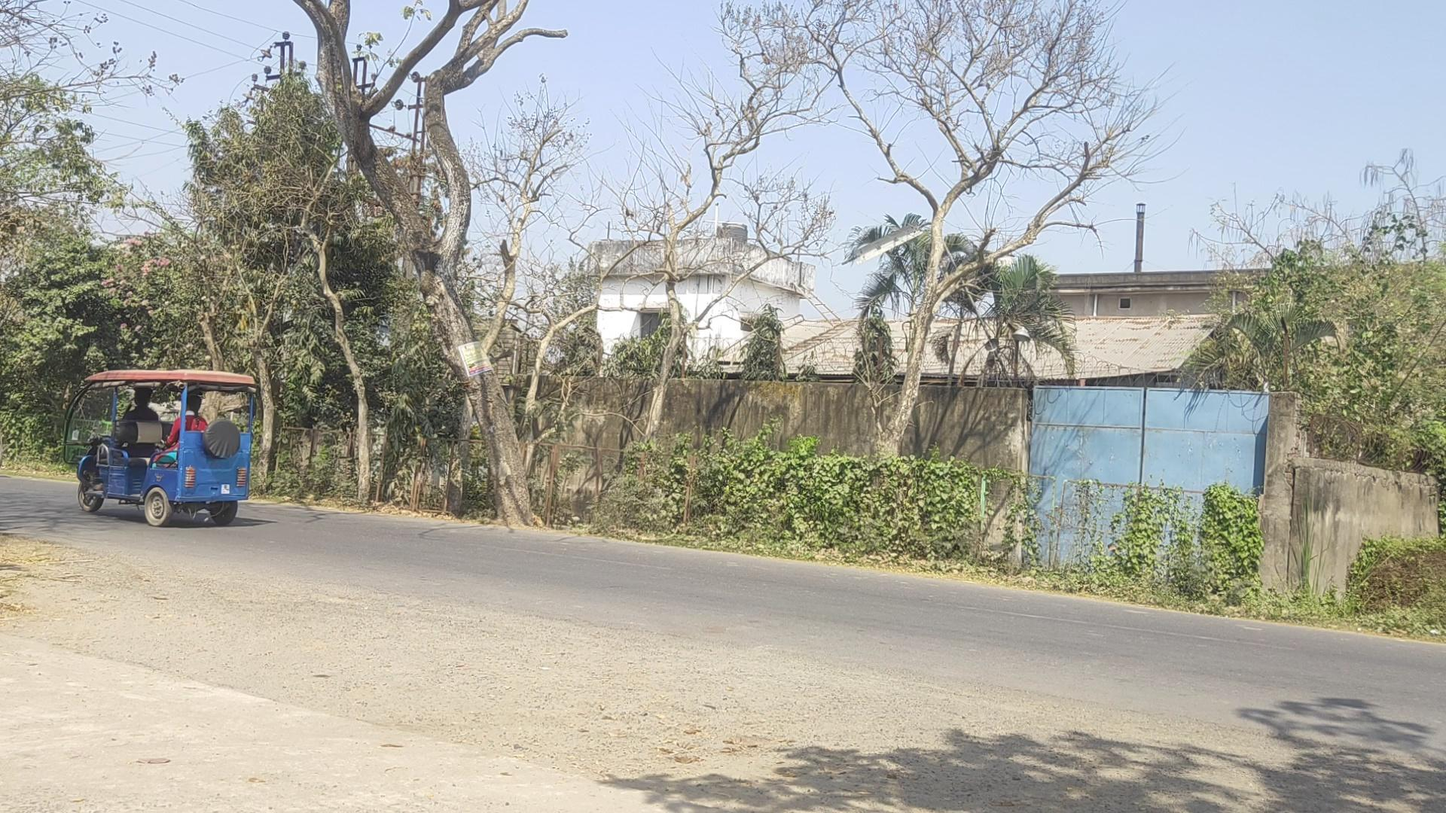Auto: (63, 369, 256, 528)
